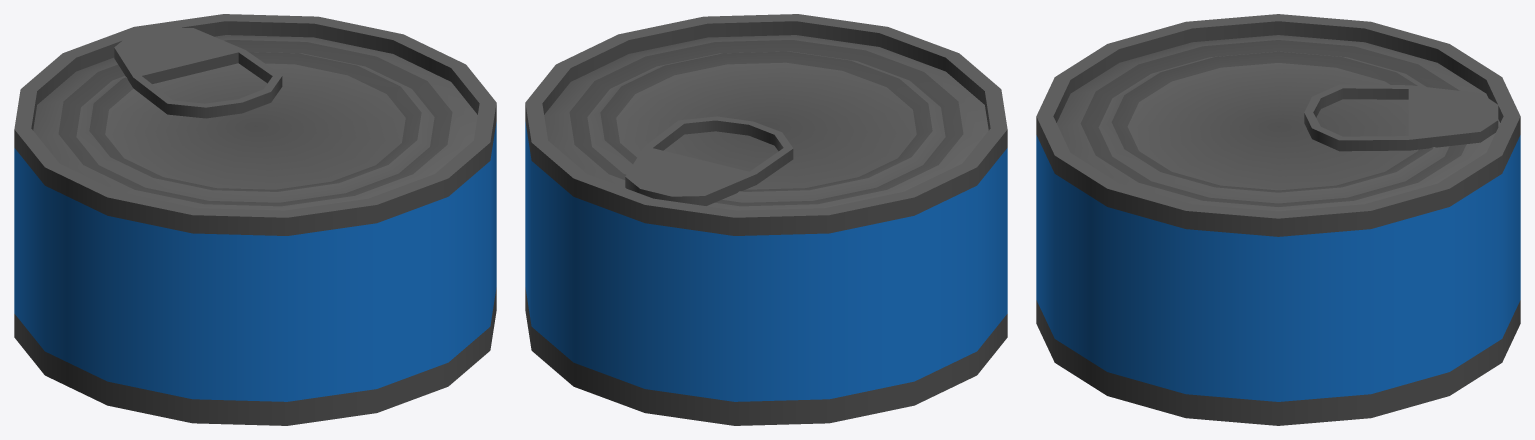
3 views of the same model, side by side, from view 1: azimuth 30°, elevation 25°; view 2: azimuth 150°, elevation 25°; view 3: azimuth 270°, elevation 25° (orthographic).
Visible parts, largest first — view 1: refl; view 2: refl; view 3: refl.
Part boxes in pixels (box(x1,y1,x2,y2)): refl: box(14, 14, 496, 425); refl: box(525, 14, 1007, 425); refl: box(1036, 14, 1520, 425).
Size of the model in its own units: 0.5 by 0.2405 by 0.5.
